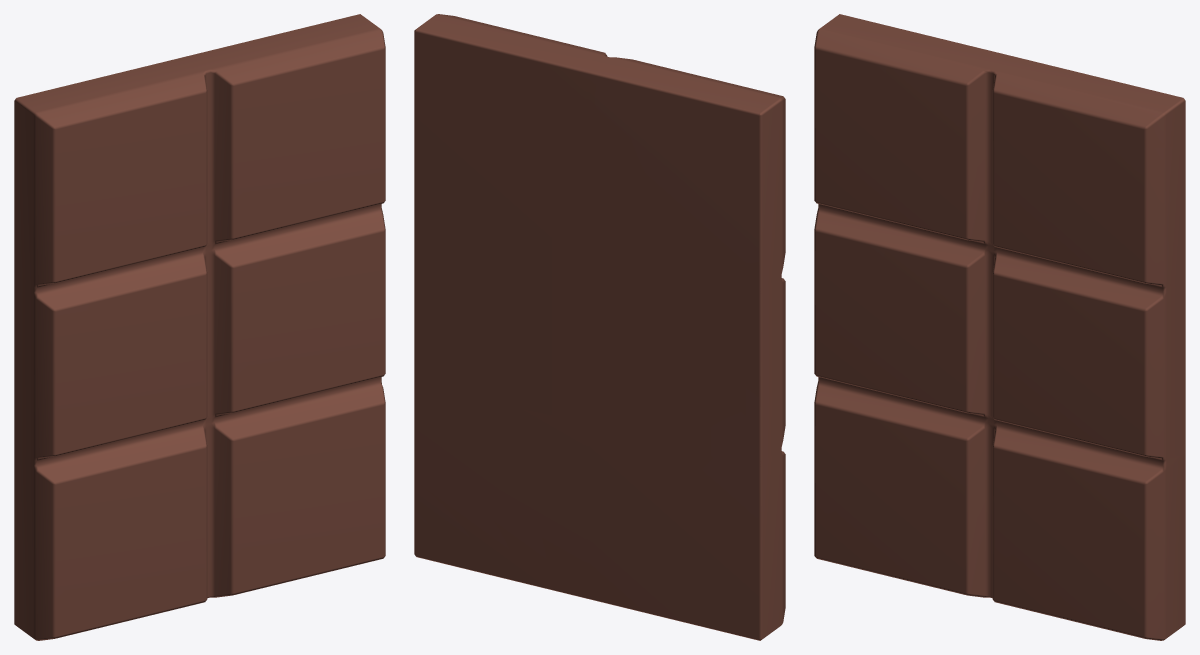
The model's file is Store_4_Chocolate_1.glb.
3 views of the same model, side by side, from view 1: azimuth 30°, elevation 25°; view 2: azimuth 150°, elevation 25°; view 3: azimuth 330°, elevation 25° (orthographic).
Parts seen in each view (by area): view 1: Store_4_Chocolate_1; view 2: Store_4_Chocolate_1; view 3: Store_4_Chocolate_1.
Boxes of the visible parts, x1,y1,x2,y2 form: Store_4_Chocolate_1: (14,14,385,640); Store_4_Chocolate_1: (414,14,785,640); Store_4_Chocolate_1: (814,14,1185,640).
Size of the model in its own units: 0.6566 by 0.9517 by 0.1074.
Materials: 1 (1 with a texture image).
